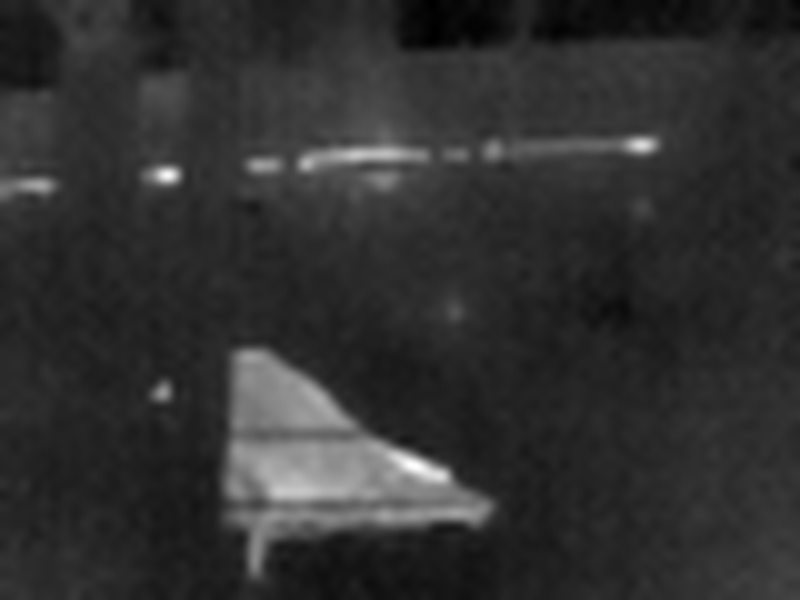elephant: (127, 346, 488, 578)
